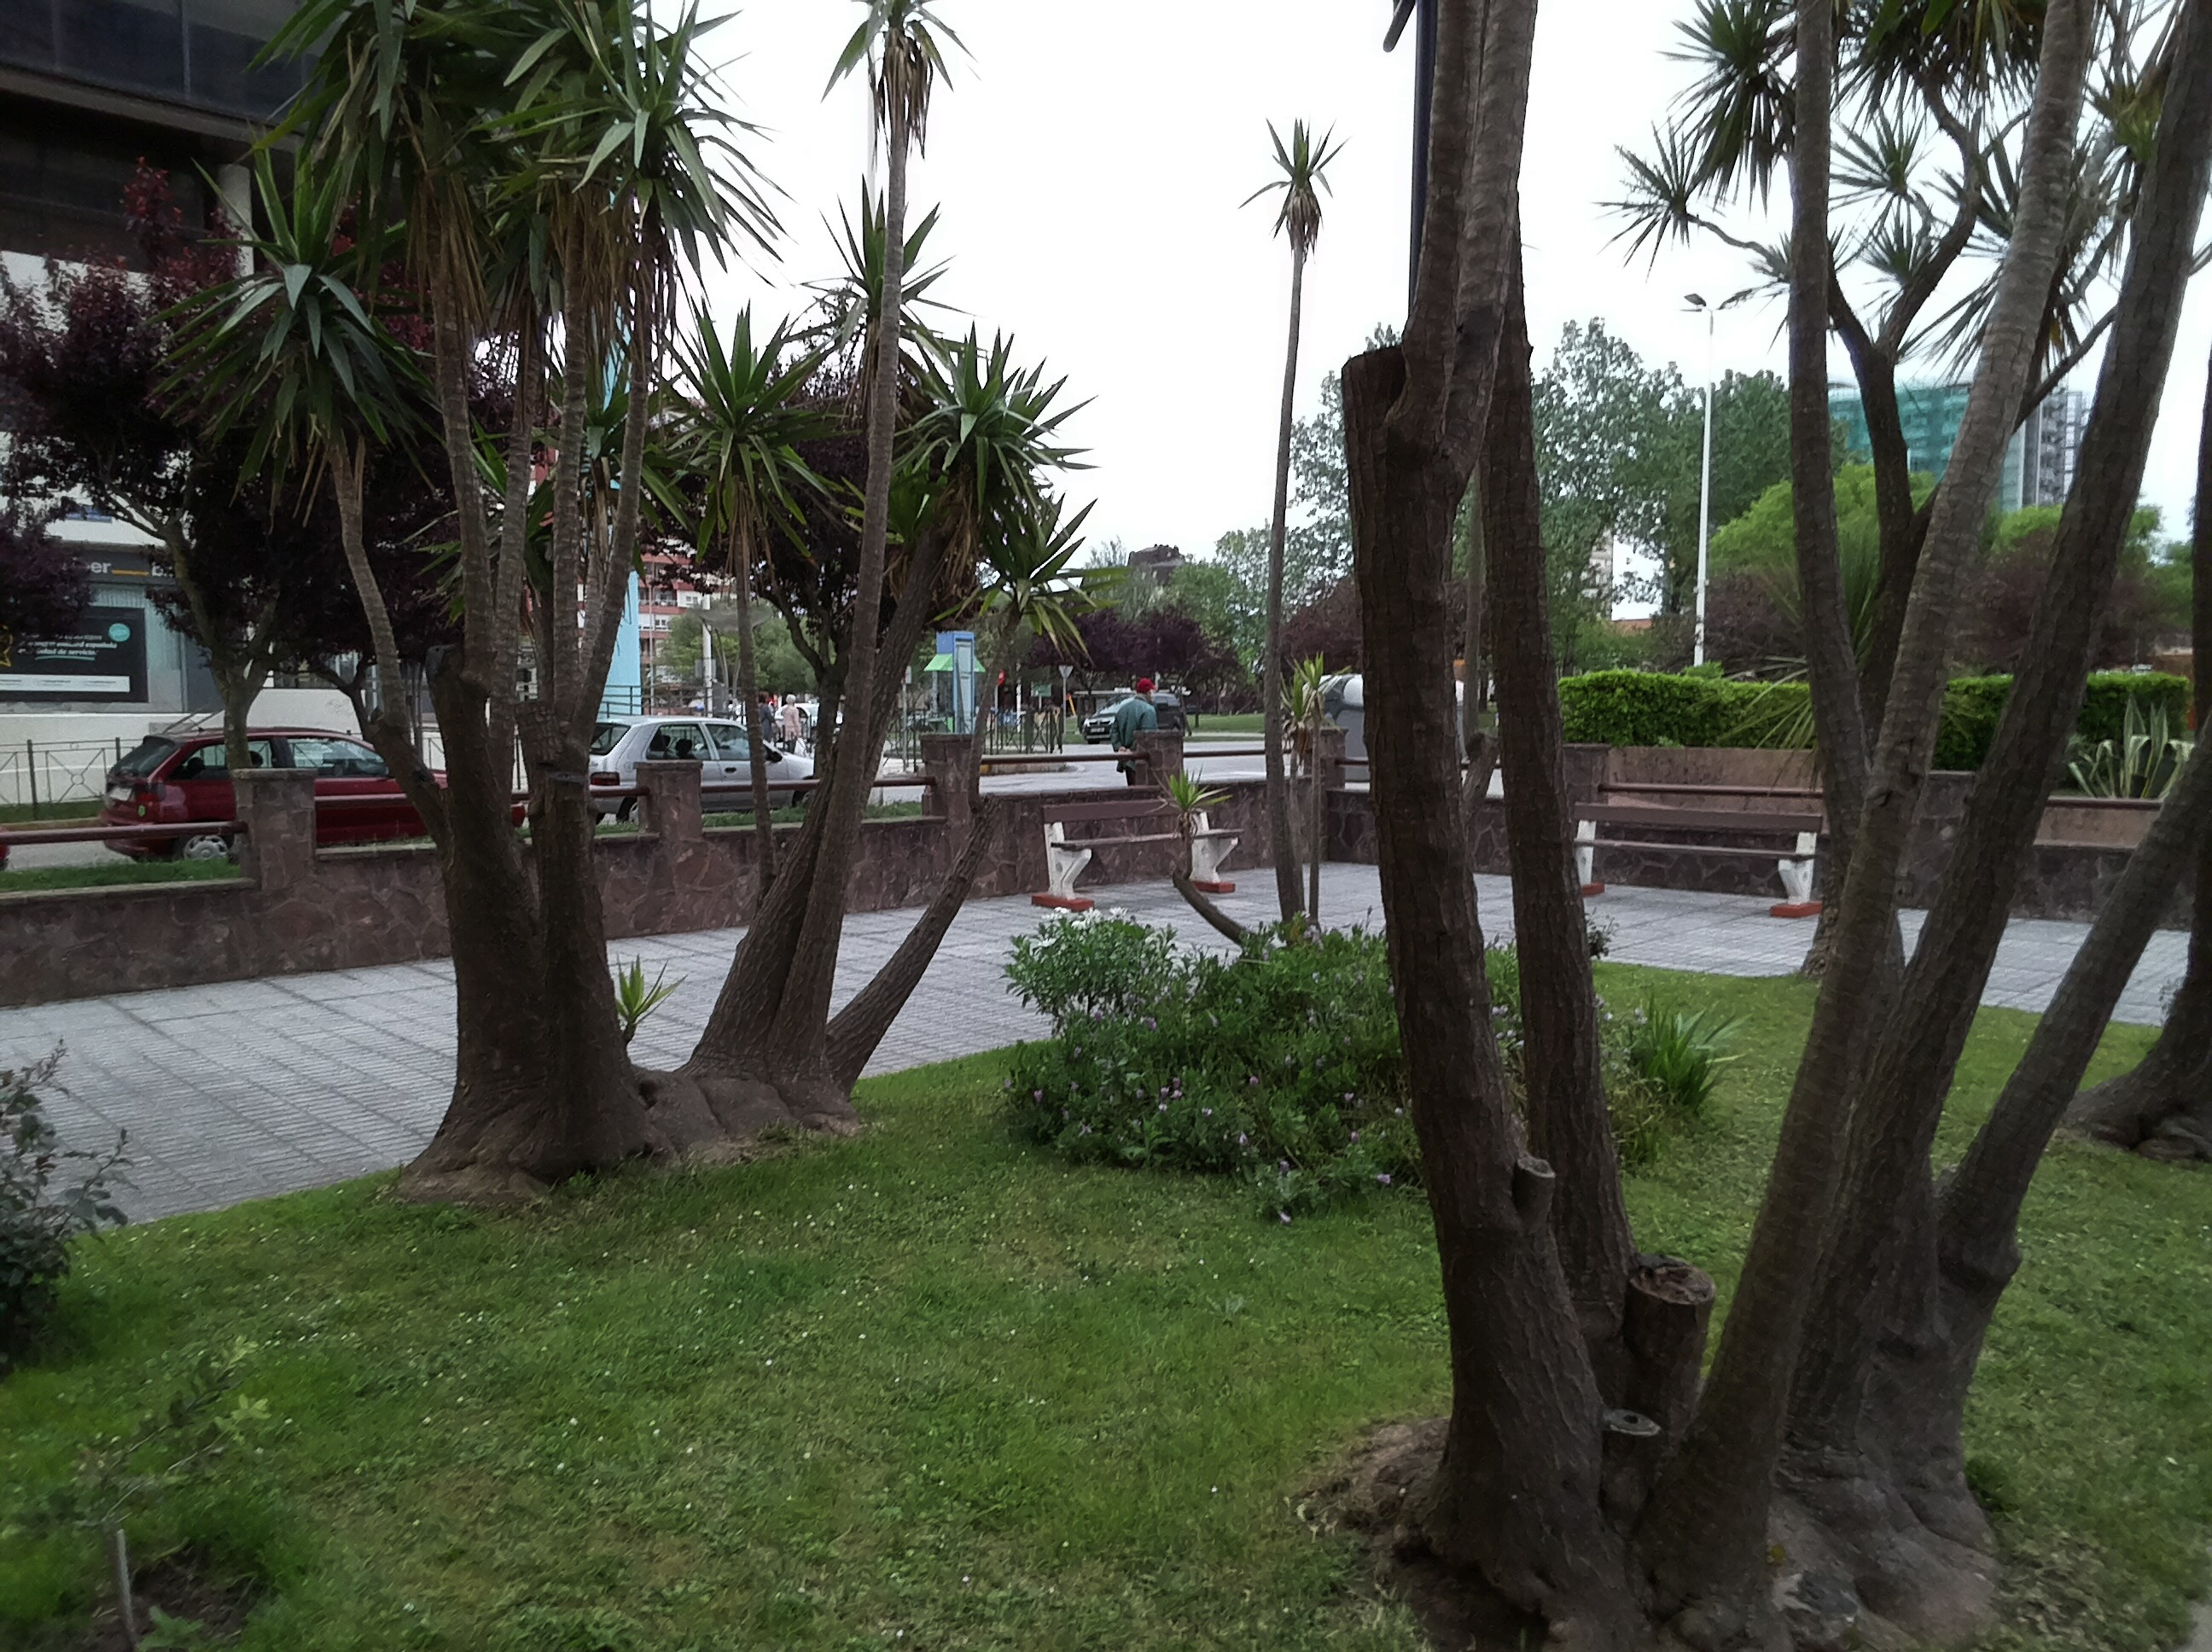Arbol: (1329, 0, 2144, 1629), (163, 0, 947, 1157)
